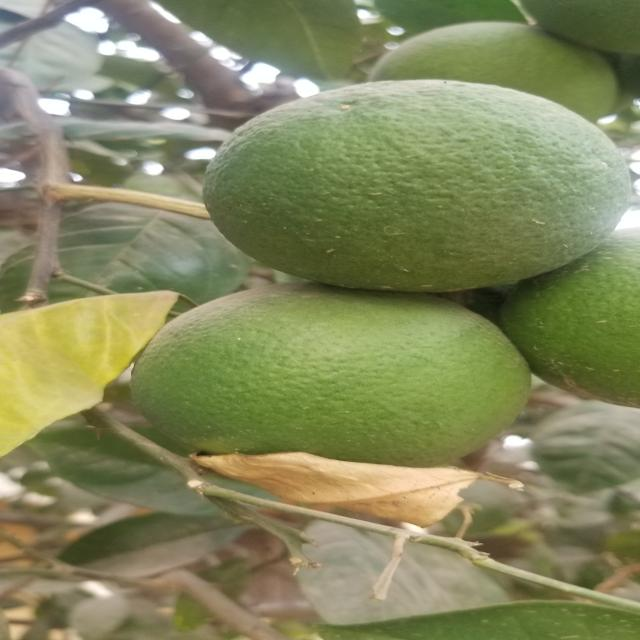Unripe: (209, 72, 630, 298), (124, 292, 542, 502)
